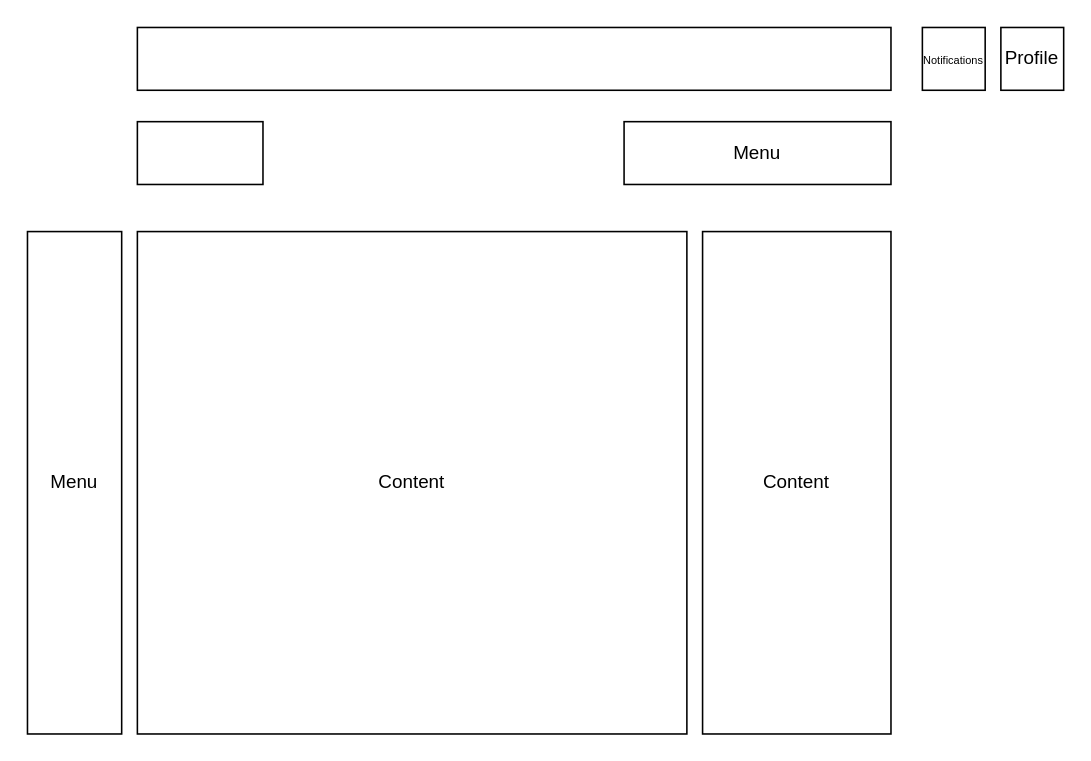
This 1091x761 diagram has some shape labels left out. Here are the shapes that lost their labels. From the top down, the centre of each, then its label:
At [513,58]: "Header (search field)".
At [199,152]: "Logo".
